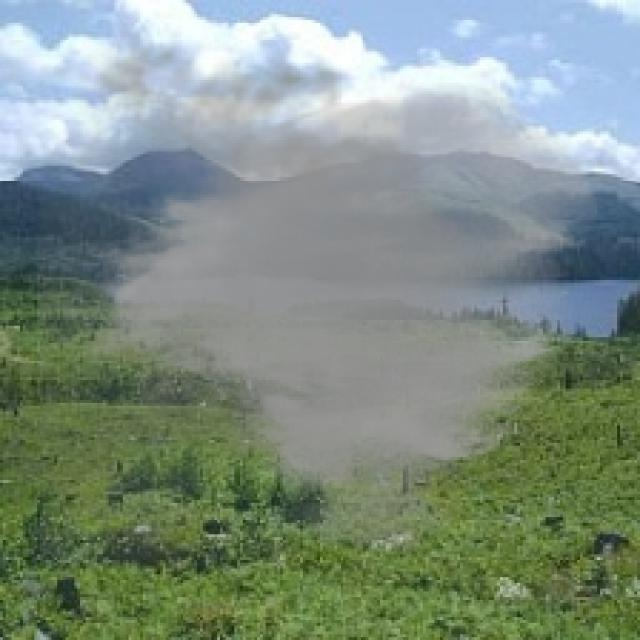Smoke: (37, 26, 603, 566)
